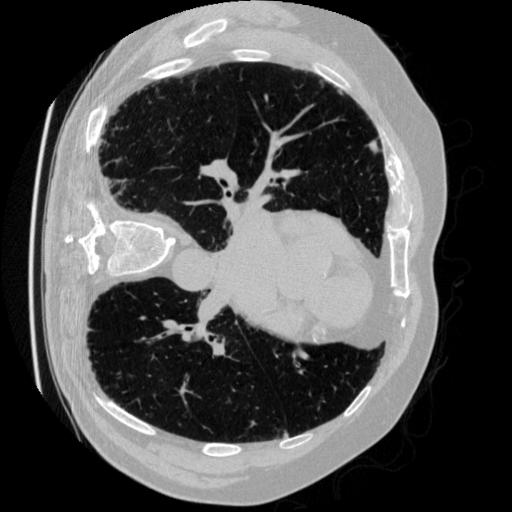nodule: (367, 137, 384, 154)
